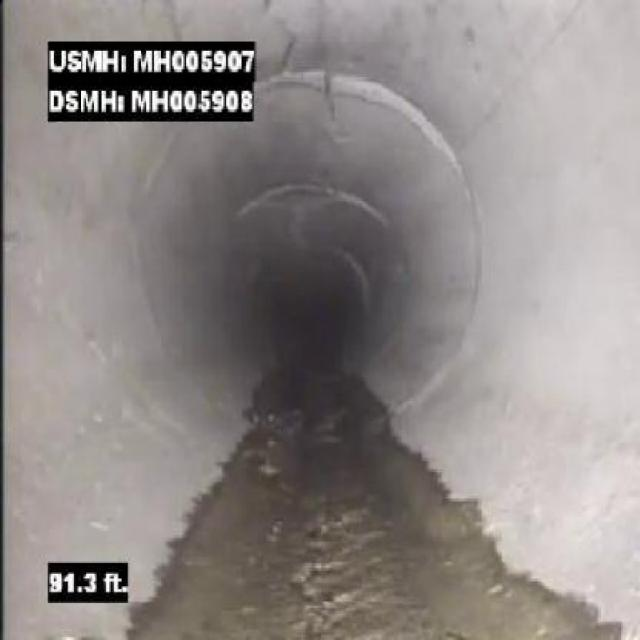Crack: (286, 494, 385, 638), (266, 8, 343, 114)
Joint offset: (262, 69, 469, 151)
